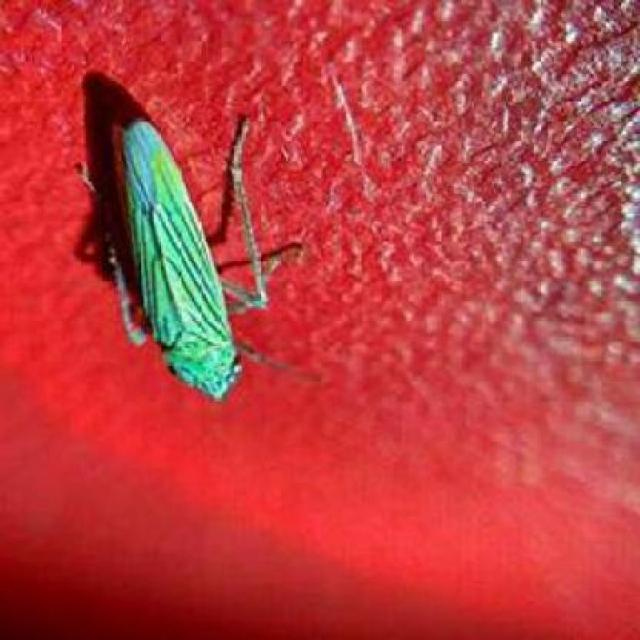green-leafhopper: (92, 116, 271, 399)
